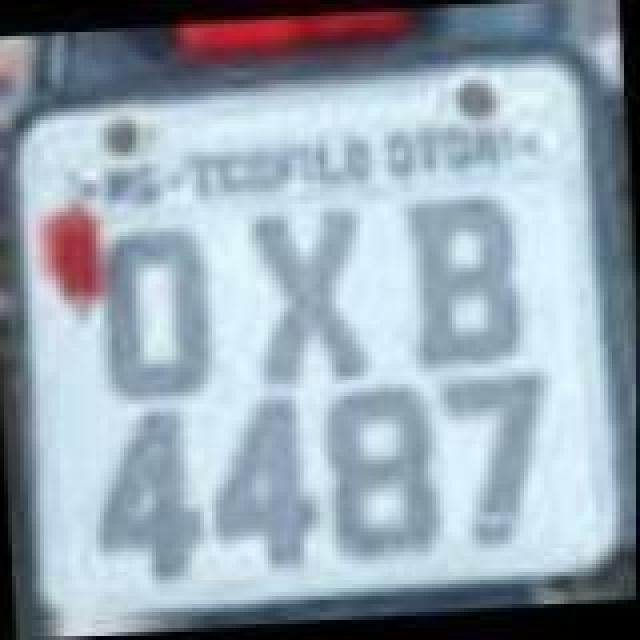4: (86, 402, 222, 594), (206, 384, 330, 576)
7: (432, 370, 560, 550)
8: (320, 382, 448, 566)
B: (402, 194, 530, 370)
O: (100, 226, 216, 402)
X: (250, 204, 378, 388)
